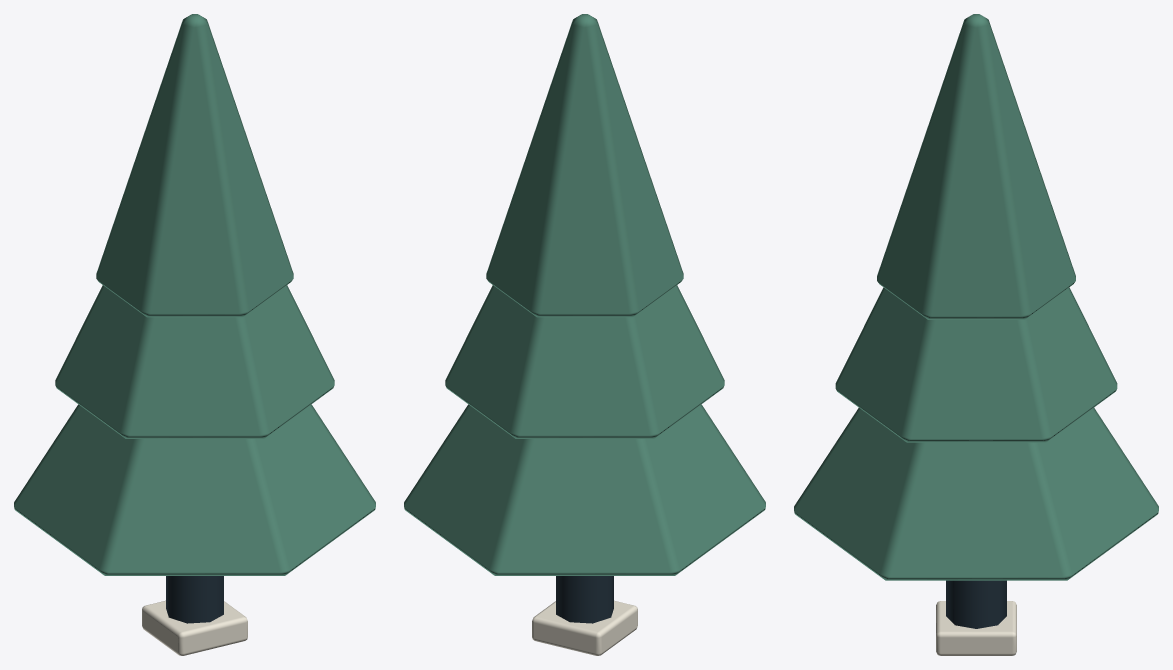
File: tree.glb
3 views of the same model, side by side, from view 1: azimuth 30°, elevation 25°; view 2: azimuth 150°, elevation 25°; view 3: azimuth 270°, elevation 25° (orthographic).
Visible parts, largest first — view 1: tree_leaf, trunk_foot, trunk; view 2: tree_leaf, trunk_foot, trunk; view 3: tree_leaf, trunk_foot, trunk.
Boxes of the visible parts, box(x1,y1,x2,y2) form: tree_leaf: box(14, 14, 375, 575); trunk_foot: box(142, 600, 247, 655); trunk: box(166, 576, 223, 623); tree_leaf: box(404, 14, 765, 575); trunk_foot: box(532, 600, 637, 655); trunk: box(556, 576, 613, 623); tree_leaf: box(794, 14, 1158, 580); trunk_foot: box(936, 601, 1016, 655); trunk: box(946, 580, 1006, 628).
Bounding box in the file's own units: 1.9 × 4.08 × 2.16.
